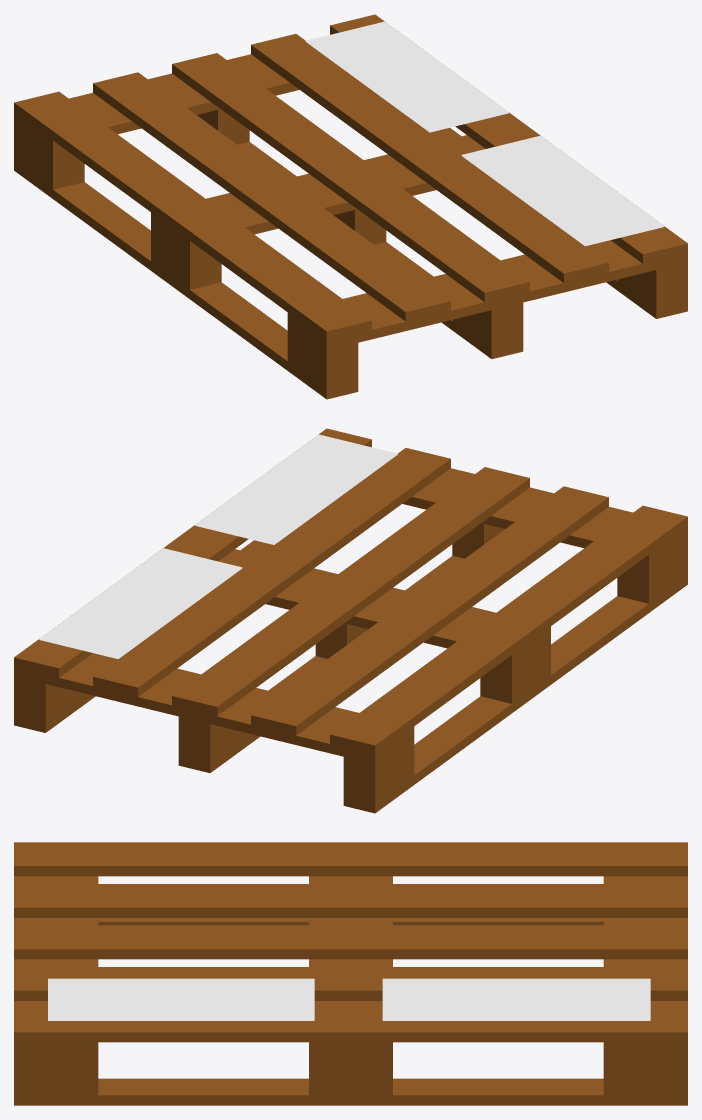
File: Euro_pallet_Europalette.dae
3 renders of one model, top to bottom at view 1: azimuth 30°, elevation 25°; view 2: azimuth 150°, elevation 25°; view 3: azimuth 270°, elevation 25°, orthographic. The views are drawn at different scales.
Visible parts, largest first — view 1: Euro_pallet_|_Europalette_[8], label_[1]_|_Beschriftung_[1], label_[2]_|_Beschriftung_[2]; view 2: Euro_pallet_|_Europalette_[8], label_[1]_|_Beschriftung_[1], label_[2]_|_Beschriftung_[2]; view 3: Euro_pallet_|_Europalette_[8], label_[1]_|_Beschriftung_[1], label_[2]_|_Beschriftung_[2].
Part boxes in pixels (x1,y1,x2,y2): Euro_pallet_|_Europalette_[8]: (14, 14, 687, 399); label_[1]_|_Beschriftung_[1]: (305, 21, 508, 132); label_[2]_|_Beschriftung_[2]: (461, 135, 664, 246); Euro_pallet_|_Europalette_[8]: (14, 428, 687, 813); label_[1]_|_Beschriftung_[1]: (39, 548, 242, 658); label_[2]_|_Beschriftung_[2]: (195, 434, 397, 544); Euro_pallet_|_Europalette_[8]: (14, 842, 687, 1105); label_[1]_|_Beschriftung_[1]: (382, 978, 650, 1020); label_[2]_|_Beschriftung_[2]: (48, 978, 314, 1020).
Size of the model in its own units: 800 by 1200 by 160.
